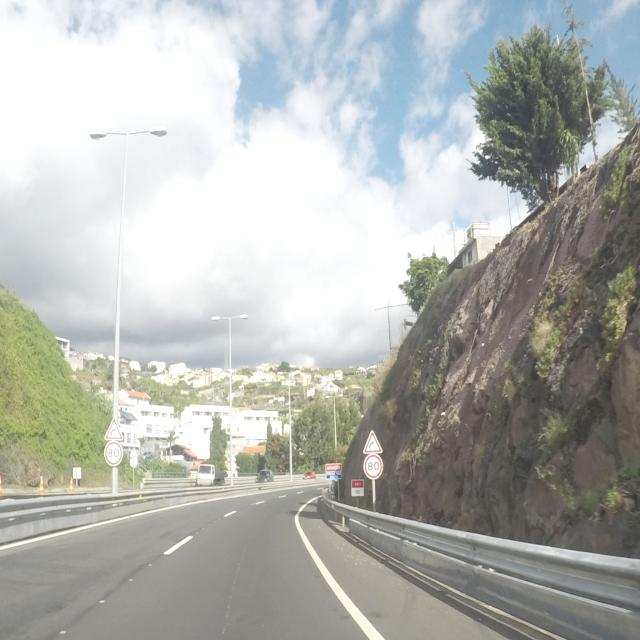car: (192, 463, 226, 486), (256, 468, 274, 482)
